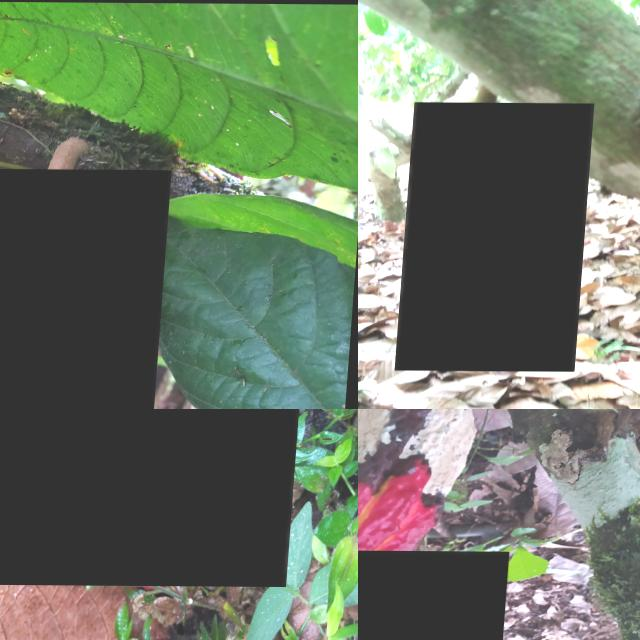Fitoftora: (401, 102, 597, 371), (0, 168, 174, 409)
Monilia: (0, 409, 305, 586), (358, 409, 485, 595)
Sana: (358, 550, 513, 640)
